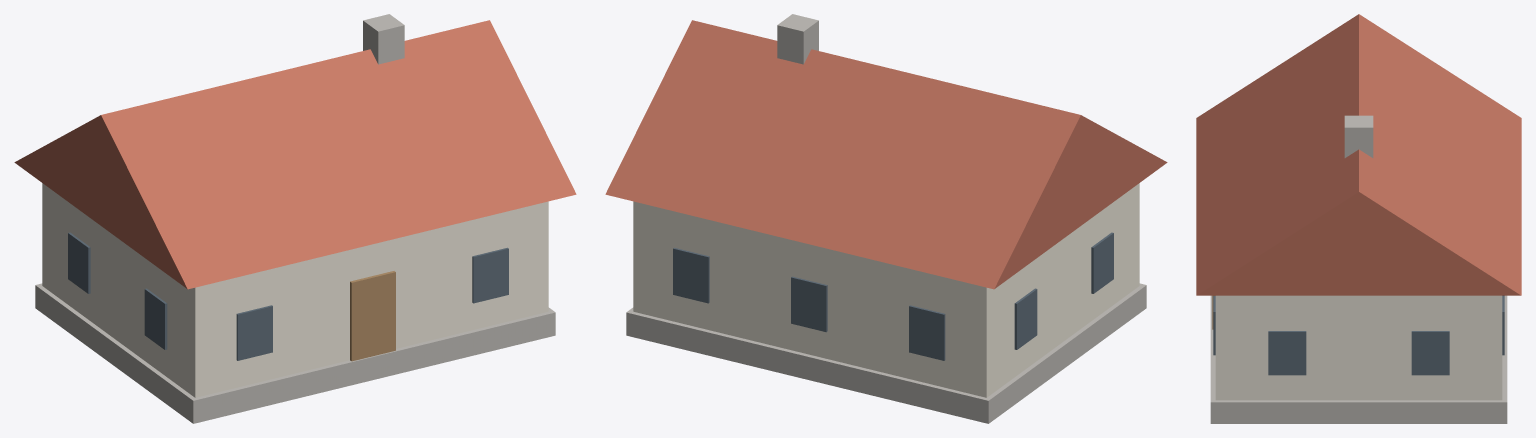
The model's file is house_0.glb.
The picture shows the model from 3 angles, left to right: view 1: azimuth 30°, elevation 25°; view 2: azimuth 150°, elevation 25°; view 3: azimuth 270°, elevation 25°; orthographic projection. The views are drawn at different scales.
Parts seen in each view (by area): view 1: House; view 2: House; view 3: House.
Part boxes in pixels (<box>): House: <box>14,14,576,423</box>; House: <box>605,14,1167,423</box>; House: <box>1196,14,1521,423</box>.
Size of the model in its own units: 8.8 by 6 by 6.8.
